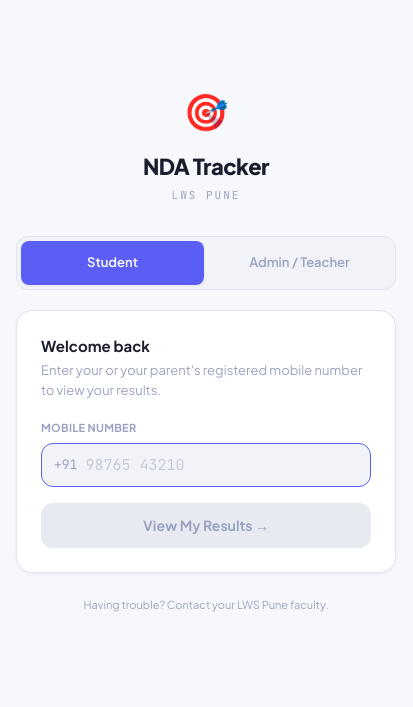
LoginPage — Admin / Teacher tab (unified) › shows error message on login failure
Click the button "Admin / Teacher" at [300, 263], box [208,241,391,285]
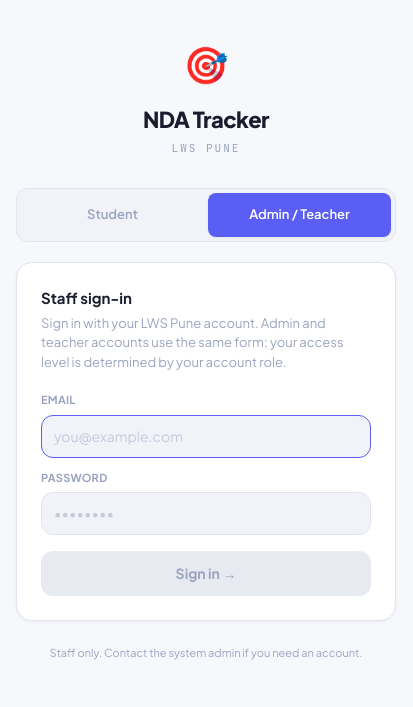
Type "wrong@example.com" into the field labelled "Email" at [206, 436], box [41,414,371,458]
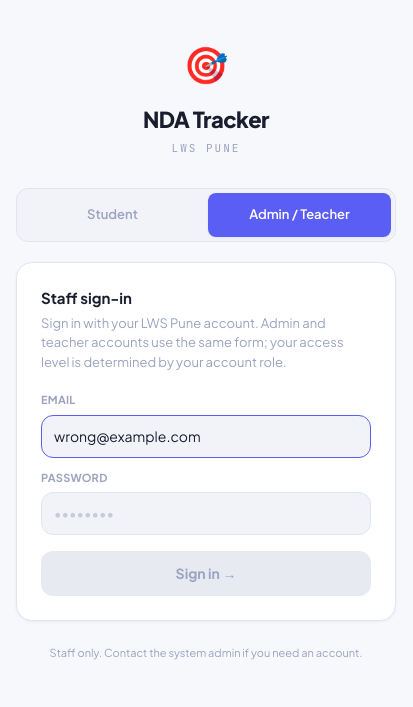
Type "wrongpass" into the password field labelled "Password" at [206, 514], box [41,492,371,535]
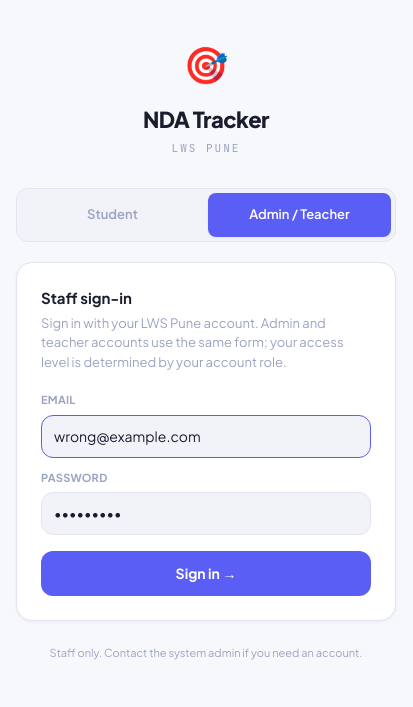
Click the button "Sign in →" at [206, 574], box [41,551,371,596]
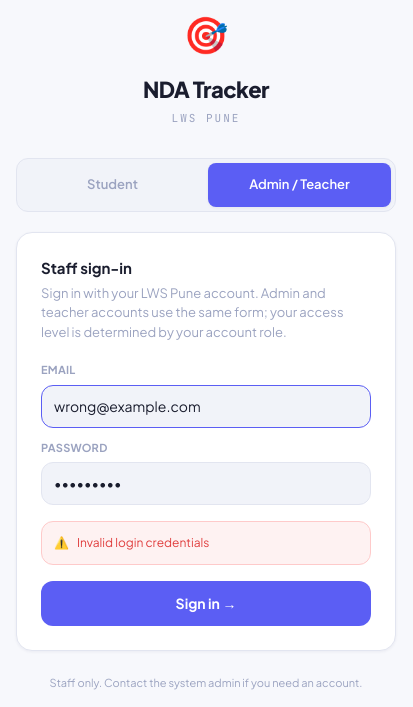
Expected: the text "Invalid login credentials" is shown, [77,534,209,552]
